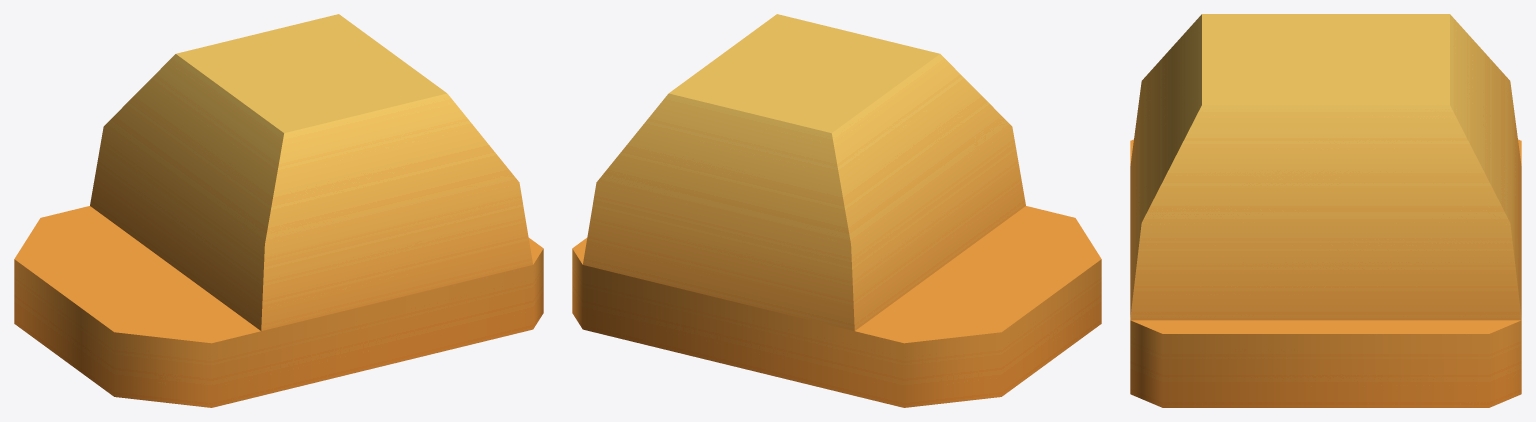
Rendered from hat-hard.glb.
The picture shows the model from 3 angles, left to right: view 1: azimuth 30°, elevation 25°; view 2: azimuth 150°, elevation 25°; view 3: azimuth 270°, elevation 25°; orthographic projection. The views are drawn at different scales.
Visible parts, largest first — view 1: hat-hard; view 2: hat-hard; view 3: hat-hard.
Boxes of the visible parts, x1,y1,x2,y2 form: hat-hard: [14, 14, 543, 407]; hat-hard: [572, 14, 1101, 407]; hat-hard: [1130, 14, 1521, 407].
Bounding box in the file's own units: 0.33 × 0.175 × 0.24.
Materials: 1 (1 with a texture image).
